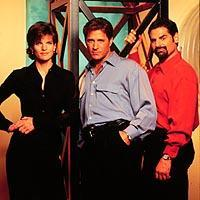hand: (29, 122, 52, 145), (156, 155, 181, 174), (116, 16, 135, 37)
